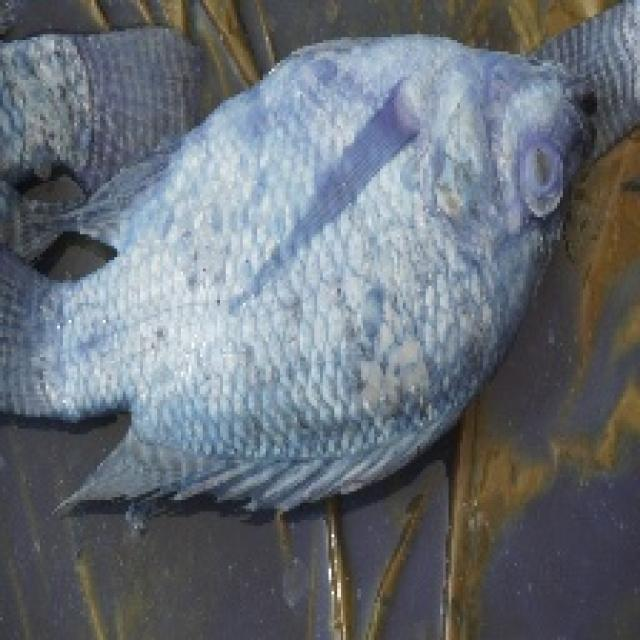Non-Fresh: (196, 43, 595, 304), (502, 125, 578, 228)
